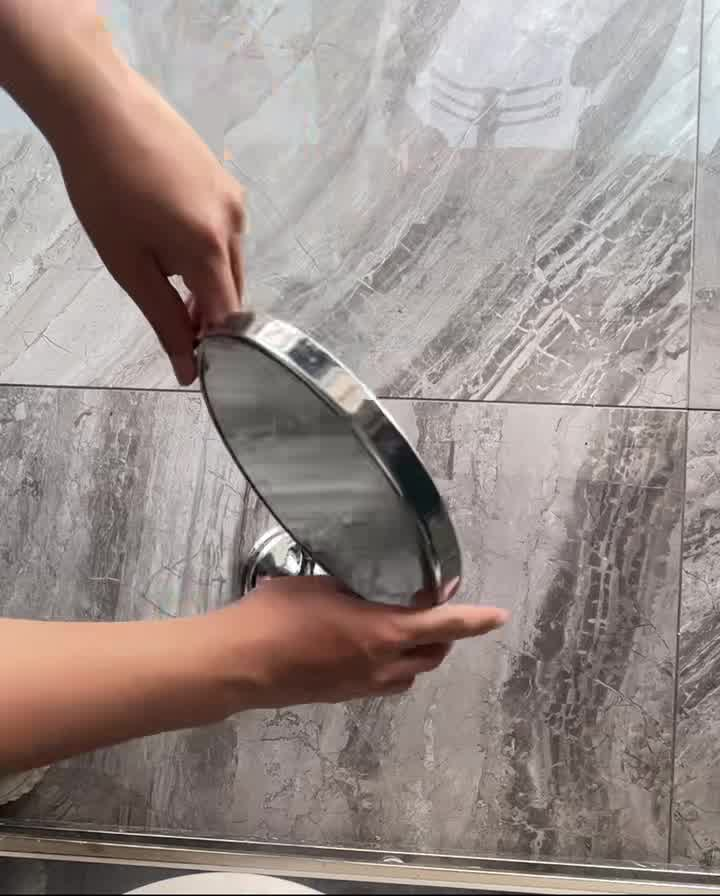mirror: (189, 323, 479, 603)
